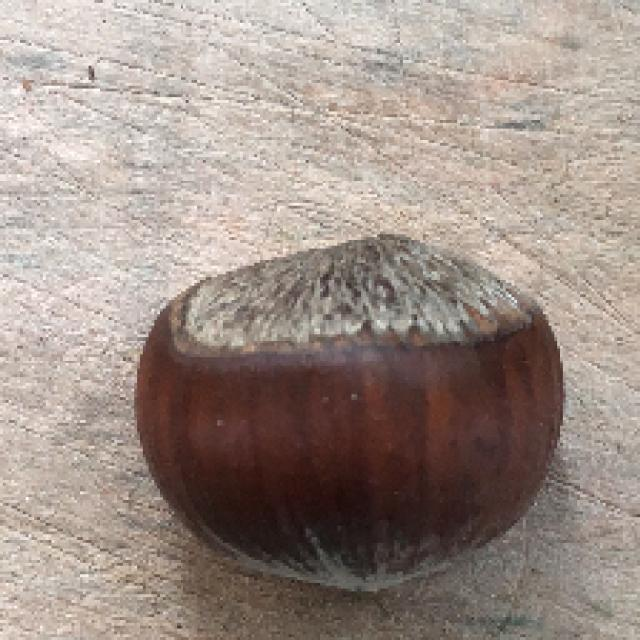damagedHazelnut: (124, 226, 578, 609)
